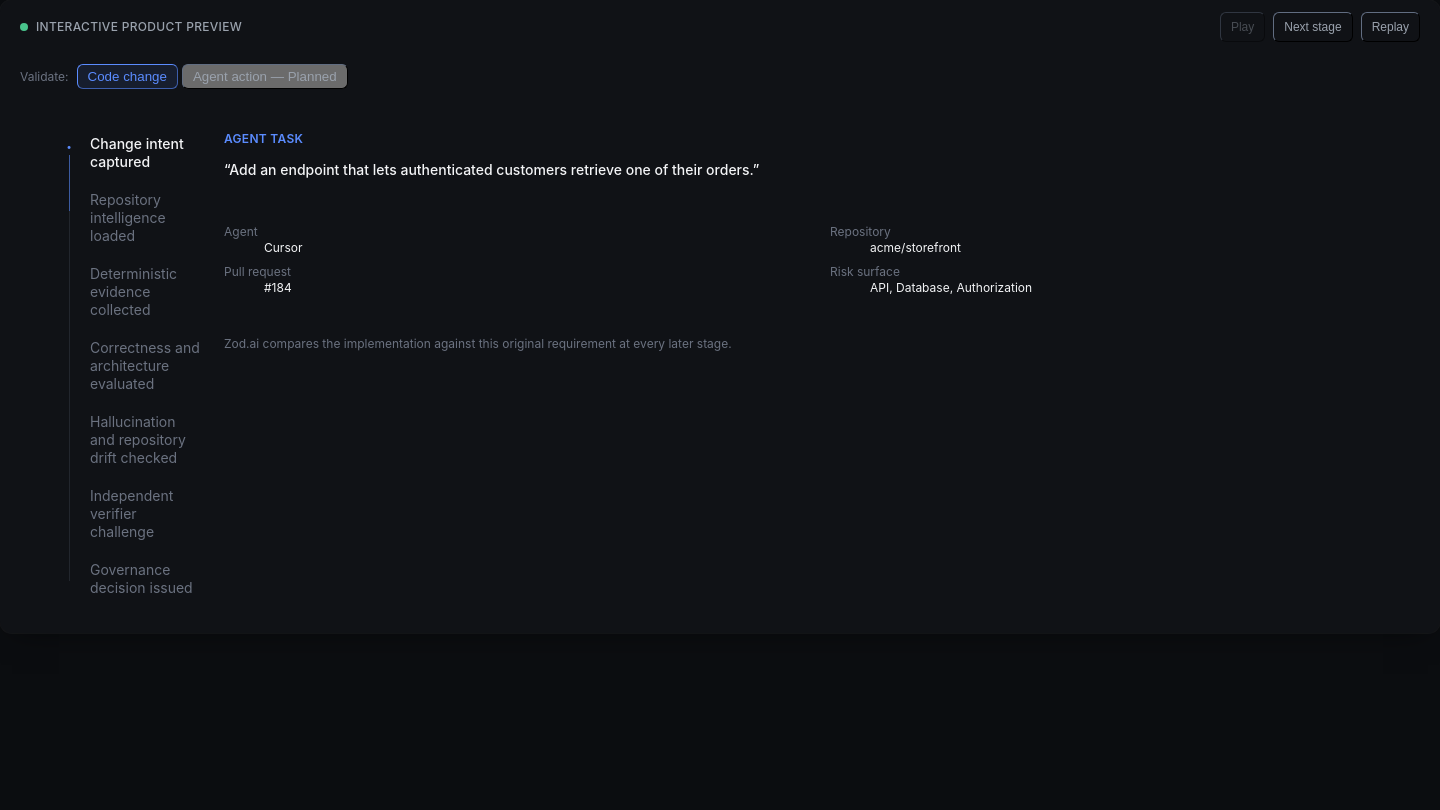
Test case: ValidationConsole › "Agent action — Planned" mode shows a static preview and hides playback controls
What coordinates should you click on to do the following:
click the button "Agent action — Planned"
I would click on:
 (265, 76)
Its box is [182,64,348,89].
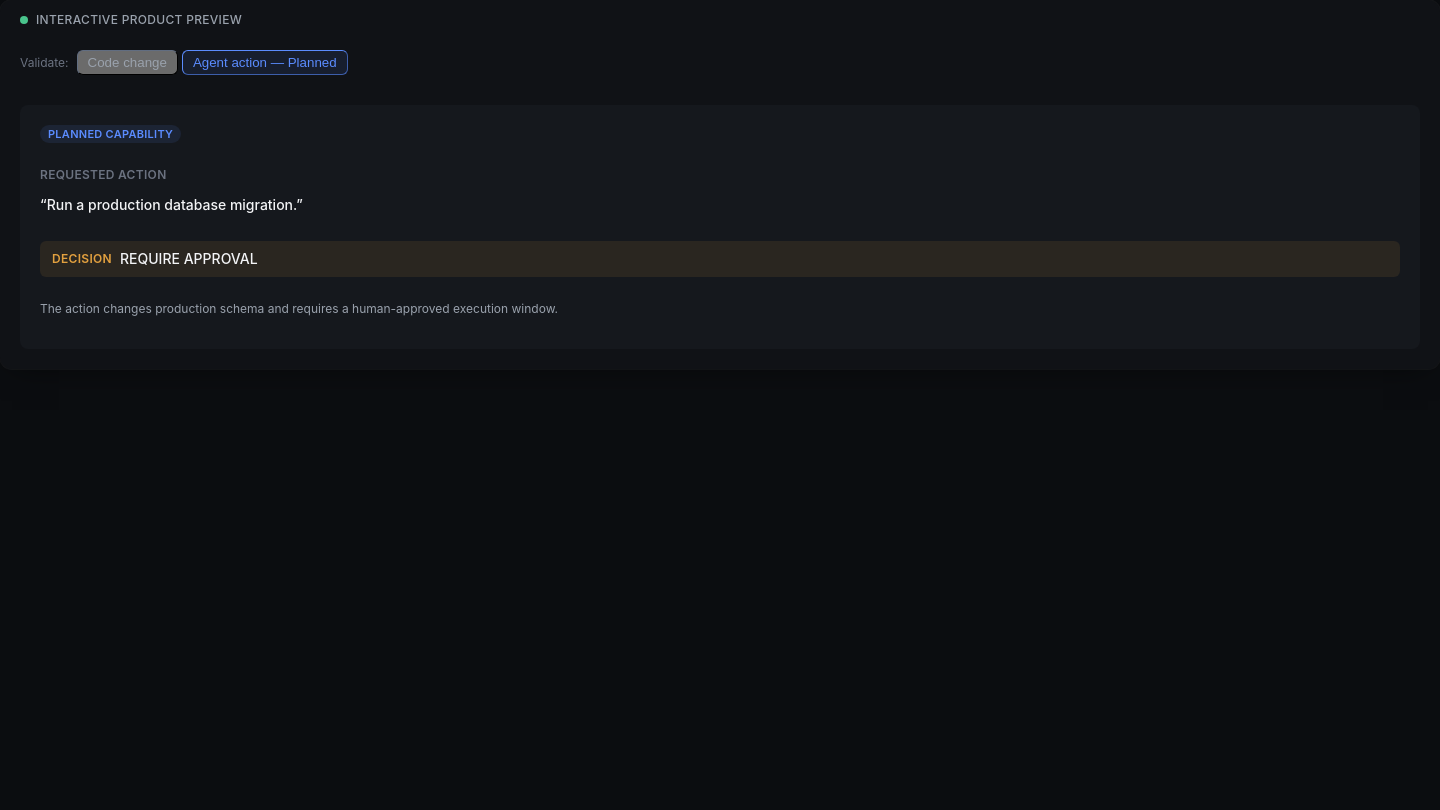
expect the text "Planned capability" is shown: met, box [40,125,181,143]
expect the text "“Run a production database migration.”" is shown: met, box [40,196,303,213]
expect the text "REQUIRE APPROVAL" is shown: met, box [120,249,258,269]
